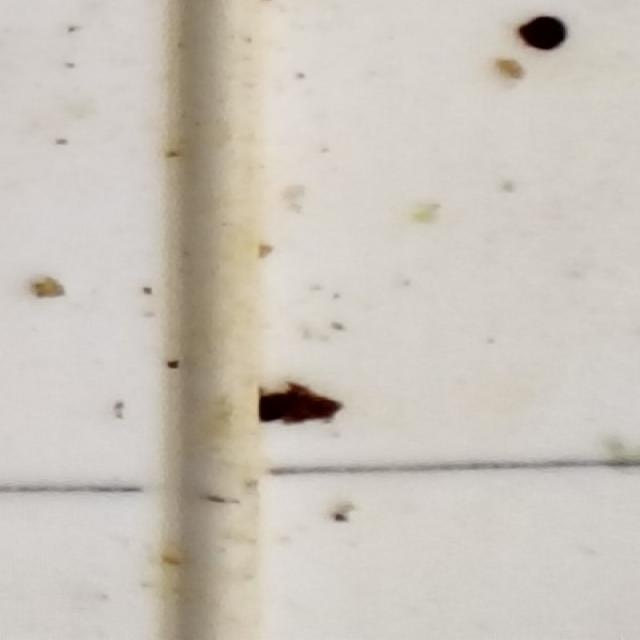varroa: (519, 16, 570, 55)
